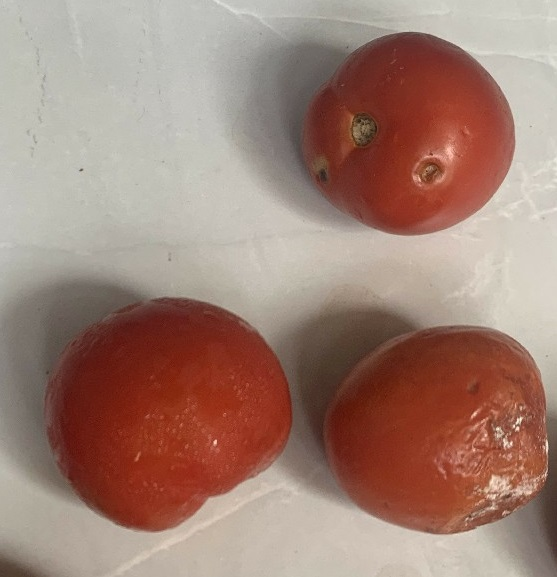NG: (316, 313, 554, 549), (293, 22, 520, 246)
OK: (37, 291, 300, 545)
